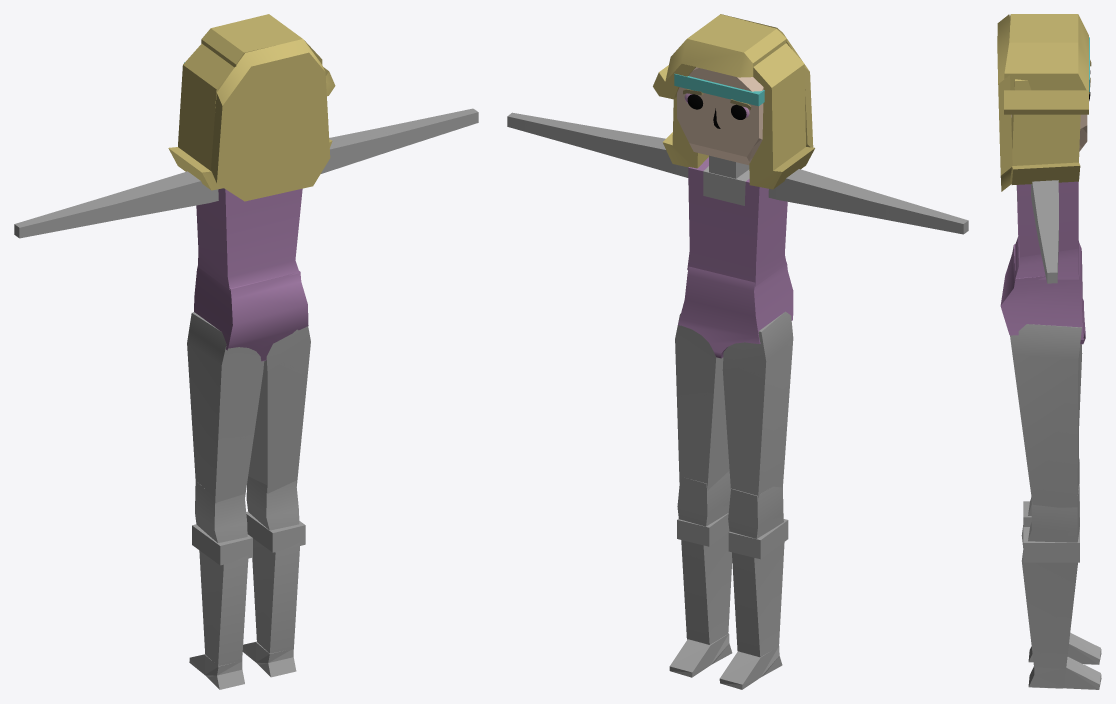
File: girl.fbx
3 renders of one model, left to right at view 1: azimuth 30°, elevation 25°; view 2: azimuth 150°, elevation 25°; view 3: azimuth 270°, elevation 25°, orthographic. The views are drawn at different scales.
Visible parts, largest first — view 1: pCube6, pCube16, pCube8, pCube18, pCube14, pCube20, pCube19, pCube25, pCube4, pCube26, pCube3, pCube24 (+3 smaller); view 2: pCube16, pCube8, pCube20, pCube18, pCube19, pCube14, pCube4, pCube3, pCube1, pCube25, pCube26, pCube21 (+6 smaller); view 3: pCube18, pCube3, pCube19, pCube5, pCube14, pCube8, pCube26, pCube6, pCube21, pCube23, pCube22, pCube1 (+1 smaller).
Part boxes in pixels (x1=…): pCube6: x1=211, y1=39, x2=330, y2=201; pCube16: x1=187, y1=312, x2=264, y2=504; pCube8: x1=196, y1=188, x2=302, y2=289; pCube18: x1=248, y1=326, x2=310, y2=493; pCube14: x1=194, y1=266, x2=308, y2=361; pCube20: x1=195, y1=482, x2=248, y2=666; pCube19: x1=246, y1=476, x2=299, y2=653; pCube25: x1=14, y1=171, x2=218, y2=238; pCube4: x1=168, y1=43, x2=234, y2=190; pCube26: x1=321, y1=108, x2=478, y2=173; pCube3: x1=201, y1=14, x2=335, y2=96; pCube24: x1=192, y1=524, x2=252, y2=565; pCube16: x1=722, y1=311, x2=793, y2=499; pCube8: x1=687, y1=157, x2=787, y2=286; pCube20: x1=728, y1=486, x2=784, y2=657; pCube18: x1=675, y1=313, x2=729, y2=490; pCube19: x1=677, y1=471, x2=732, y2=644; pCube14: x1=678, y1=262, x2=793, y2=358; pCube4: x1=749, y1=43, x2=814, y2=189; pCube3: x1=653, y1=14, x2=786, y2=99; pCube1: x1=677, y1=67, x2=763, y2=165; pCube25: x1=768, y1=169, x2=968, y2=234; pCube26: x1=507, y1=112, x2=688, y2=177; pCube21: x1=669, y1=633, x2=732, y2=677; pCube18: x1=1010, y1=324, x2=1081, y2=507; pCube3: x1=1004, y1=14, x2=1088, y2=114; pCube19: x1=1021, y1=484, x2=1079, y2=668; pCube5: x1=1010, y1=79, x2=1080, y2=184; pCube14: x1=1000, y1=242, x2=1085, y2=344; pCube8: x1=1015, y1=181, x2=1078, y2=279; pCube26: x1=1031, y1=180, x2=1058, y2=283; pCube6: x1=997, y1=14, x2=1012, y2=191; pCube21: x1=1028, y1=657, x2=1101, y2=689; pCube23: x1=1023, y1=527, x2=1079, y2=562; pCube22: x1=1028, y1=633, x2=1101, y2=664; pCube1: x1=1011, y1=114, x2=1087, y2=151.
Size of the model in its own units: 7.94 by 10.5 by 1.54.
